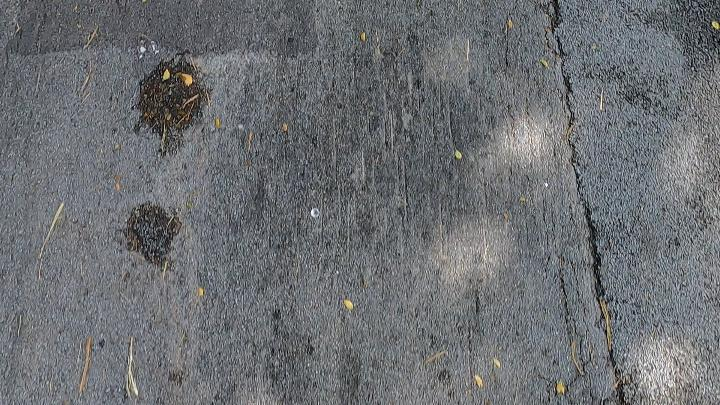Crack: (539, 1, 630, 405), (546, 0, 625, 404)
Pothole: (130, 45, 212, 157), (136, 53, 209, 157), (124, 198, 182, 273), (127, 202, 181, 270)
